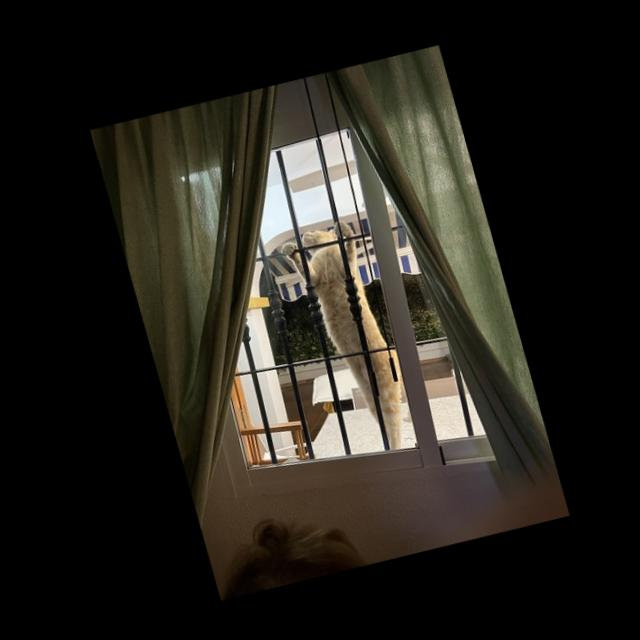animals: (273, 214, 414, 463)
